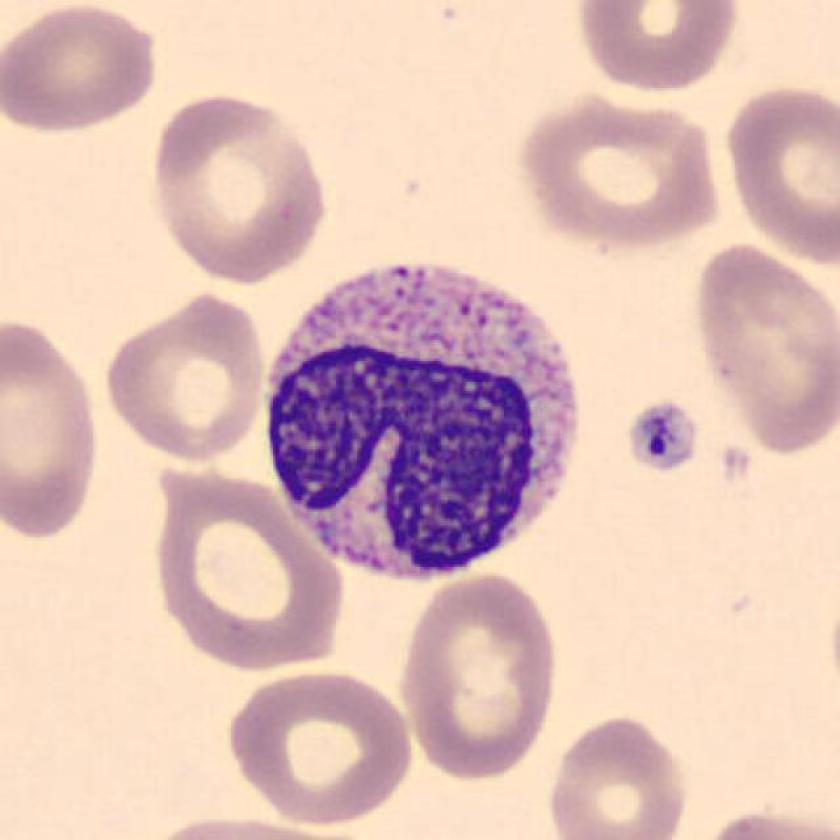neutrophil: (272, 264, 579, 575)
